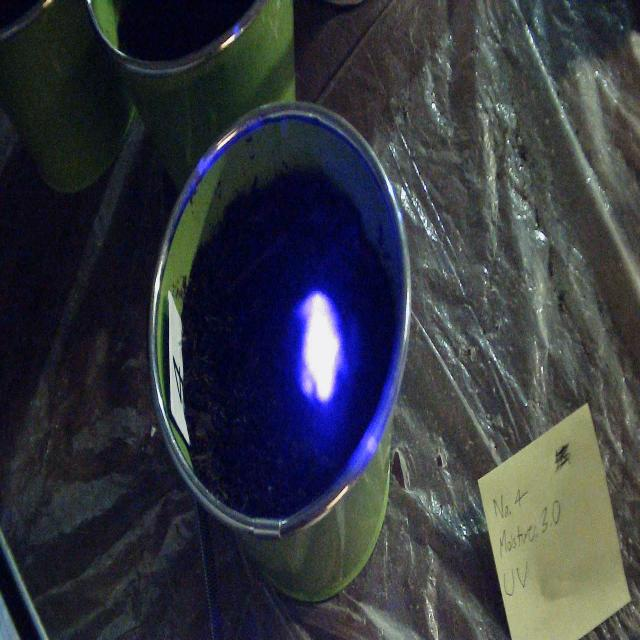soil-moisture-3.0: (294, 293, 353, 404)
